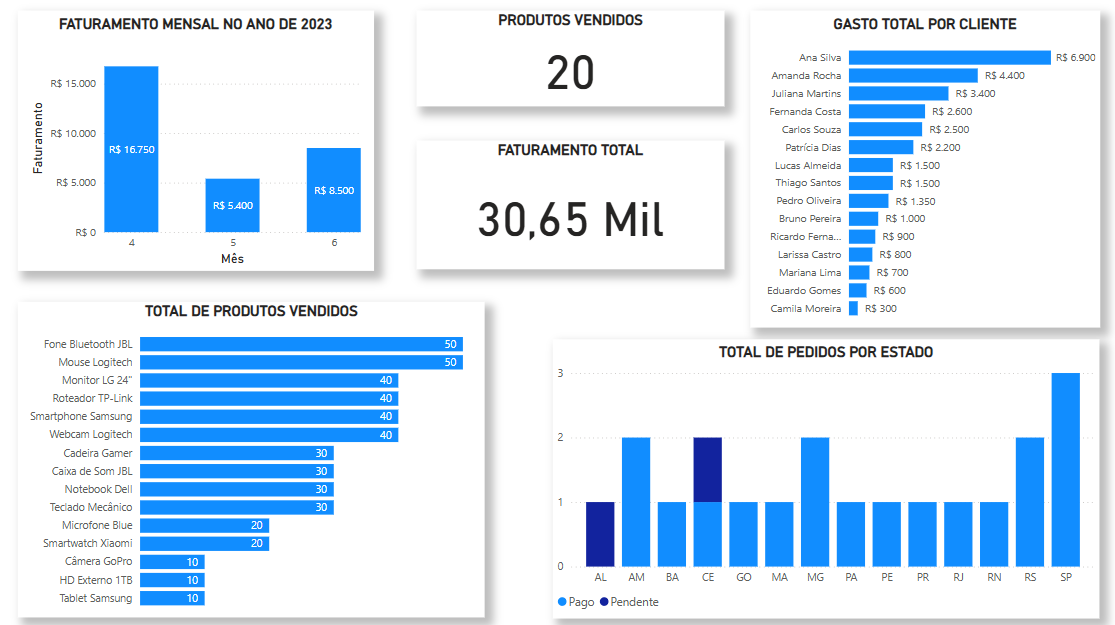

This screenshot's page, from the dashboard's own definition file:
{"tool":"powerbi","page":{"name":"Página 1","canvas":[1280,720],"ordinal":0},"visuals":[{"type":"clusteredBarChart","title":"GASTO TOTAL POR CLIENTE","fields":{"Category":["clientes_compras.nome"],"Y":["Sum(clientes_compras.total_gasto)"]},"box":[858.4,14.4,399.6,362.1],"z":0},{"type":"columnChart","title":"FATURAMENTO MENSAL NO ANO DE 2023","fields":{"Category":["faturamento_mensal.mes"],"Y":["Sum(faturamento_mensal.faturamento_mensal)"]},"box":[21.6,14.4,406.9,297.2],"z":1000},{"type":"clusteredBarChart","title":"TOTAL DE PRODUTOS VENDIDOS","fields":{"Category":["produtos_mais_vendidos.produto"],"Y":["Sum(produtos_mais_vendidos.quantidade)"]},"box":[21.6,347.7,533.8,360.7],"z":2000},{"type":"card","title":"FATURAMENTO TOTAL","fields":{"Values":["Sum(total_pedidos_faturamento.faturamento_geral)"]},"box":[477.6,163,352,147.2],"z":3000},{"type":"columnChart","title":"TOTAL DE PEDIDOS POR ESTADO","fields":{"Category":["qtd_pedidos_estado.estado","qtd_pedidos_estado.status_pagamento"],"Y":["Sum(qtd_pedidos_estado.total_pedidos)"],"Series":["qtd_pedidos_estado.status_pagamento"]},"box":[633.4,389.5,624.7,318.9],"z":4000},{"type":"card","title":"PRODUTOS VENDIDOS","fields":{"Values":["Sum(total_pedidos_faturamento.total_de_pedidos)"]},"box":[477.6,14.4,352,109.6],"z":5000}]}

Visuals, with their boxes in screenshot pixels (x1, y1, x2, y2), scaled from the page's 1280x720 canvas onto the 1115x625 screenshot:
"GASTO TOTAL POR CLIENTE" clusteredBarChart: (748, 12, 1096, 327)
"FATURAMENTO MENSAL NO ANO DE 2023" columnChart: (19, 12, 373, 270)
"TOTAL DE PRODUTOS VENDIDOS" clusteredBarChart: (19, 302, 484, 615)
"FATURAMENTO TOTAL" card: (416, 141, 723, 269)
"TOTAL DE PEDIDOS POR ESTADO" columnChart: (552, 338, 1096, 615)
"PRODUTOS VENDIDOS" card: (416, 12, 723, 108)
